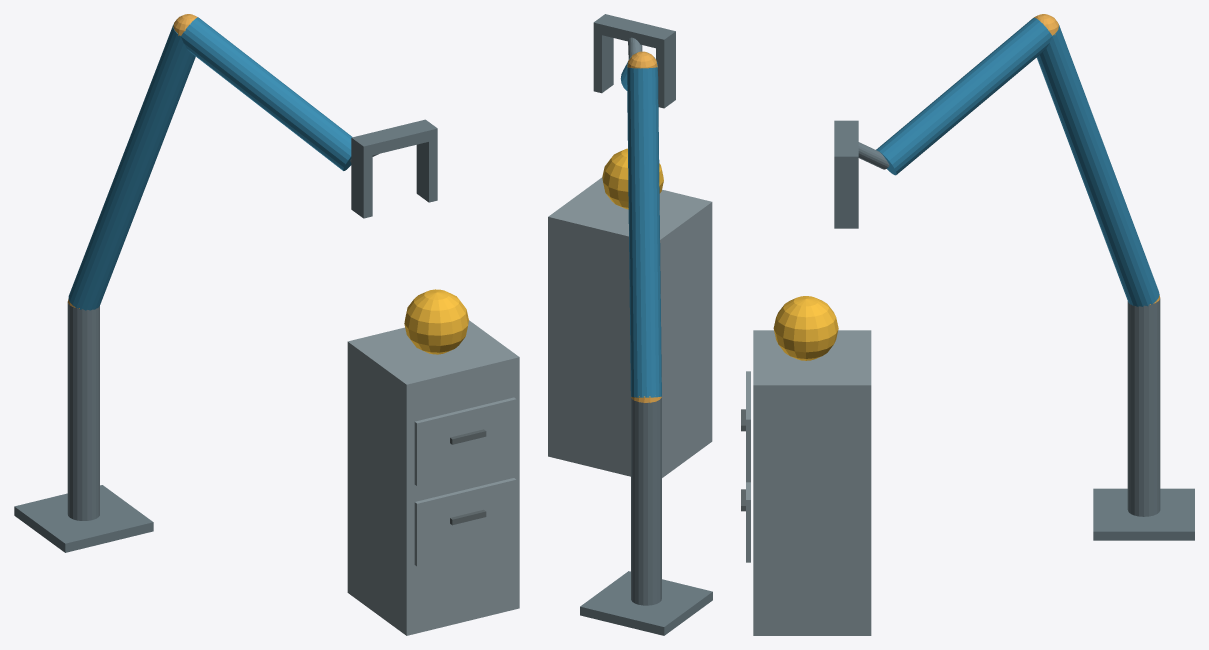
3 views of the same model, side by side, from view 1: azimuth 30°, elevation 25°; view 2: azimuth 150°, elevation 25°; view 3: azimuth 270°, elevation 25° (orthographic). The views are drawn at different scales.
Visible parts, largest first — view 1: cabinet_1 body, moving link 1, fixed post, moving link 2, cabinet_1 drawer front.001, cabinet_1 drawer front, pedestal, ball ball_1, gripper bridge, gripper finger -1, gripper finger 1; view 2: cabinet_1 body, moving link 1, fixed post, pedestal, gripper bridge, ball ball_1, gripper finger 1, gripper finger -1, joint 2; view 3: cabinet_1 body, moving link 1, fixed post, moving link 2, pedestal, ball ball_1, gripper finger 1, gripper bridge.
Part boxes in pixels (left/top/right/bottom): cabinet_1 body: left=347, top=320, right=519, bottom=635; moving link 1: left=68, top=24, right=195, bottom=310; fixed post: left=67, top=301, right=99, bottom=520; moving link 2: left=181, top=17, right=352, bottom=170; cabinet_1 drawer front.001: left=414, top=397, right=516, bottom=486; cabinet_1 drawer front: left=414, top=478, right=516, bottom=566; pedestal: left=14, top=485, right=153, bottom=552; ball ball_1: left=404, top=289, right=468, bottom=354; gripper bridge: left=351, top=119, right=437, bottom=157; gripper finger -1: left=351, top=149, right=372, bottom=218; gripper finger 1: left=416, top=139, right=437, bottom=202; cabinet_1 body: left=548, top=177, right=712, bottom=477; moving link 1: left=627, top=67, right=661, bottom=397; fixed post: left=631, top=396, right=661, bottom=605; pedestal: left=580, top=571, right=712, bottom=635; gripper bridge: left=593, top=14, right=675, bottom=50; ball ball_1: left=602, top=148, right=663, bottom=209; gripper finger 1: left=593, top=33, right=613, bottom=93; gripper finger -1: left=656, top=42, right=675, bottom=108; joint 2: left=627, top=51, right=657, bottom=68; cabinet_1 body: left=753, top=330, right=871, bottom=635; moving link 1: left=1036, top=24, right=1159, bottom=306; fixed post: left=1127, top=299, right=1160, bottom=516; moving link 2: left=876, top=17, right=1052, bottom=175; pedestal: left=1093, top=488, right=1194, bottom=540; ball ball_1: left=773, top=296, right=838, bottom=360; gripper finger 1: left=834, top=167, right=858, bottom=228; gripper bridge: left=834, top=120, right=858, bottom=167.
Size of the model in its own units: 0.8043 by 1.44 by 1.12.
